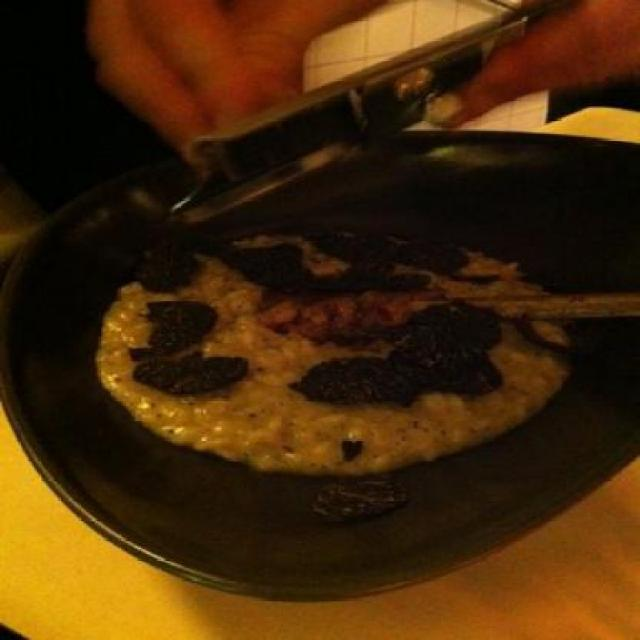Risotto: (134, 252, 538, 470)
